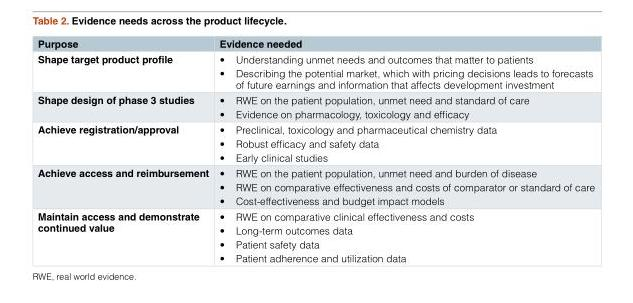table: (37, 37, 594, 263)
table column: (213, 37, 594, 263), (37, 37, 213, 263)
table column header: (37, 37, 594, 50)
table row: (37, 208, 594, 263), (37, 164, 594, 208), (37, 121, 594, 164), (37, 50, 594, 91), (37, 91, 594, 121), (37, 37, 594, 50)
